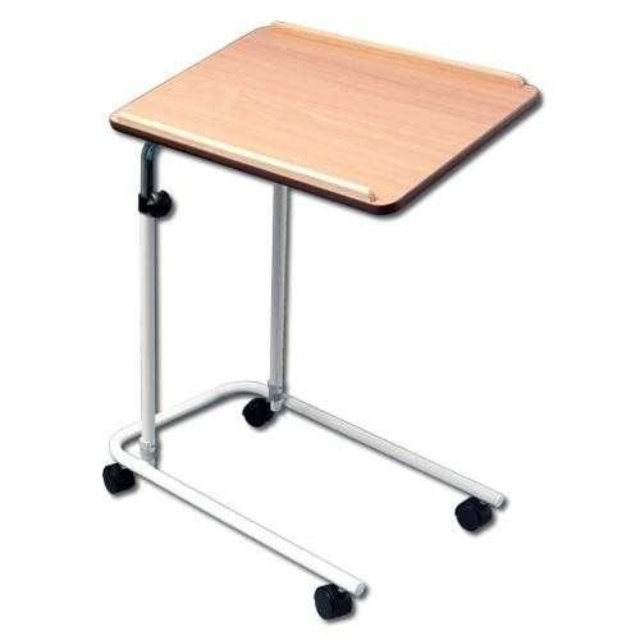obstacle: (104, 23, 540, 618)
